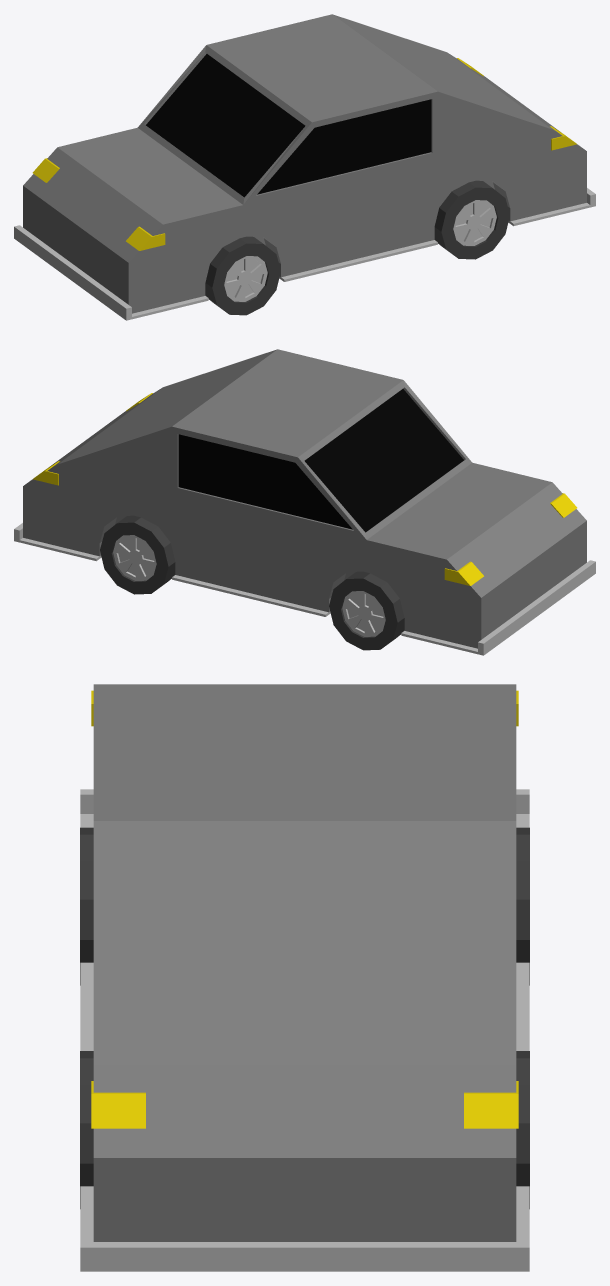
The model's file is car.fbx.
3 views of the same model, one above another, from view 1: azimuth 30°, elevation 25°; view 2: azimuth 150°, elevation 25°; view 3: azimuth 270°, elevation 25° (orthographic). The views are drawn at different scales.
Visible parts, largest first — view 1: car_body, windows, car_base, tire_front_left, tire_back_left, wheel_front_left, wheel_back_left, car_lights; view 2: car_body, windows, car_base, tire_front_right, tire_back_right, wheel_front_right, wheel_back_right, car_lights; view 3: car_body, car_base, car_lights, tire_front_left, tire_front_right, tire_back_right, tire_back_left.
Part boxes in pixels (left/top/right/bottom): car_body: left=23, top=14, right=586, bottom=313; windows: left=146, top=54, right=431, bottom=197; car_base: left=14, top=188, right=595, bottom=320; tire_front_left: left=205, top=236, right=280, bottom=315; tire_back_left: left=434, top=180, right=509, bottom=259; wheel_front_left: left=224, top=256, right=267, bottom=301; wheel_back_left: left=453, top=200, right=496, bottom=245; car_lights: left=32, top=58, right=576, bottom=250; car_body: left=23, top=349, right=586, bottom=648; windows: left=178, top=389, right=463, bottom=532; car_base: left=14, top=523, right=595, bottom=655; tire_front_right: left=329, top=571, right=404, bottom=650; tire_back_right: left=100, top=515, right=175, bottom=594; wheel_front_right: left=342, top=591, right=385, bottom=636; wheel_back_right: left=113, top=535, right=156, bottom=580; car_lights: left=33, top=393, right=577, bottom=585; car_body: left=93, top=684, right=516, bottom=1241; car_base: left=80, top=789, right=529, bottom=1271; car_lights: left=91, top=690, right=518, bottom=1128; tire_front_left: left=80, top=827, right=93, bottom=985; tire_front_right: left=516, top=827, right=529, bottom=985; tire_back_right: left=516, top=1051, right=529, bottom=1208; tire_back_left: left=80, top=1051, right=93, bottom=1208.
Bounding box in the file's own units: 1025 × 362 × 425.
